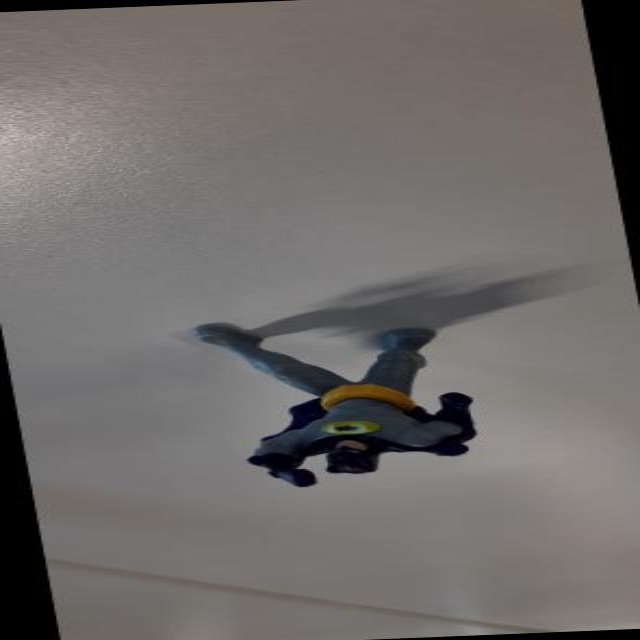Batman: (171, 300, 512, 488)
